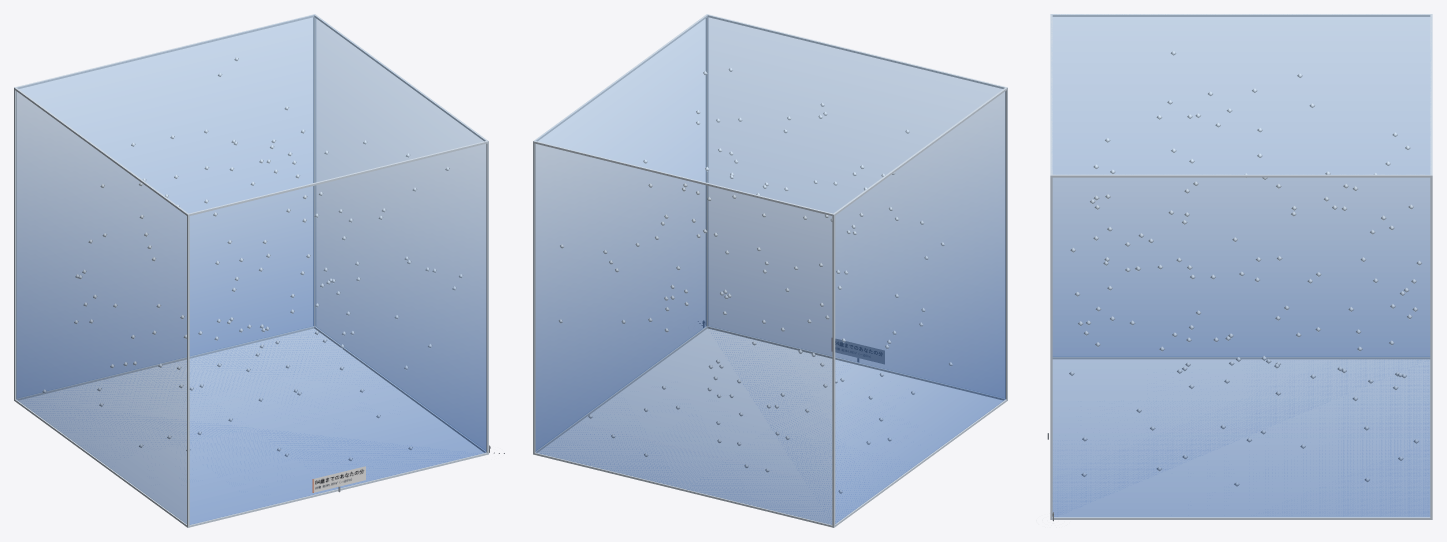
The model's file is cube_life_84.glb.
3 views of the same model, side by side, from view 1: azimuth 30°, elevation 25°; view 2: azimuth 150°, elevation 25°; view 3: azimuth 270°, elevation 25° (orthographic). The views are drawn at different scales.
Parts seen in each view (by area): view 1: co2, edge, dots, label; view 2: co2, edge, dots, label; view 3: co2, edge, dots.
Boxes of the visible parts, x1=… form: co2: x1=16, y1=15, x2=486, y2=524; edge: x1=14, y1=14, x2=488, y2=527; dots: x1=42, y1=57, x2=462, y2=461; label: x1=312, y1=466, x2=365, y2=492; co2: x1=535, y1=15, x2=1005, y2=524; edge: x1=533, y1=14, x2=1007, y2=527; dots: x1=558, y1=67, x2=952, y2=493; label: x1=835, y1=339, x2=884, y2=364; co2: x1=1051, y1=15, x2=1430, y2=516; edge: x1=1050, y1=14, x2=1432, y2=519; dots: x1=1069, y1=51, x2=1421, y2=486.
Size of the model in its own units: 71.07 by 67.31 by 70.17.
Materials: 8 (3 with a texture image).
